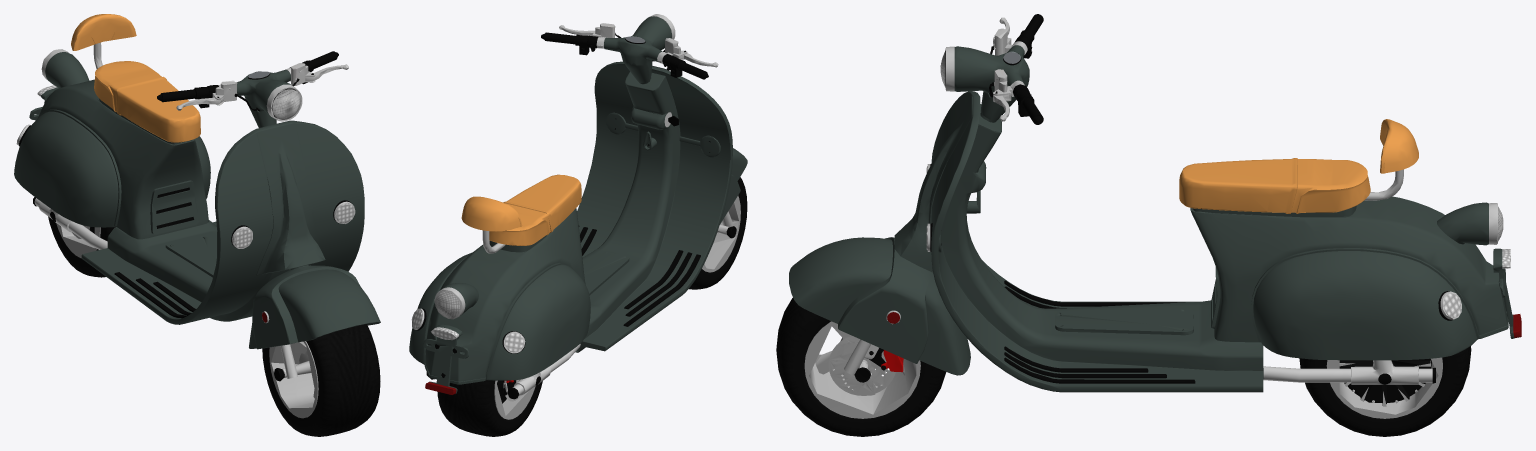
Rendered from vespa.glb.
3 views of the same model, side by side, from view 1: azimuth 30°, elevation 25°; view 2: azimuth 150°, elevation 25°; view 3: azimuth 270°, elevation 25° (orthographic). The views are drawn at different scales.
Parts seen in each view (by area): view 1: body, wheelFront, wheelRear; view 2: body, wheelRear, wheelFront; view 3: body, wheelFront, wheelRear.
Boxes of the visible parts, x1,y1,x2,y2 form: body: [14, 14, 380, 381]; wheelFront: [262, 324, 380, 436]; wheelRear: [48, 216, 115, 277]; body: [409, 14, 747, 399]; wheelRear: [437, 380, 542, 436]; wheelFront: [689, 177, 747, 289]; body: [789, 14, 1521, 392]; wheelFront: [776, 298, 946, 436]; wheelRear: [1299, 346, 1471, 436].
Bounding box in the file's own units: 0.7 × 1.17 × 2.08.
3 materials, 2 textured.
